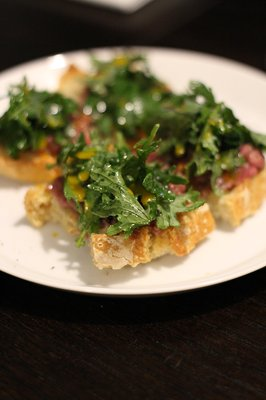curry: (1, 81, 80, 159)
